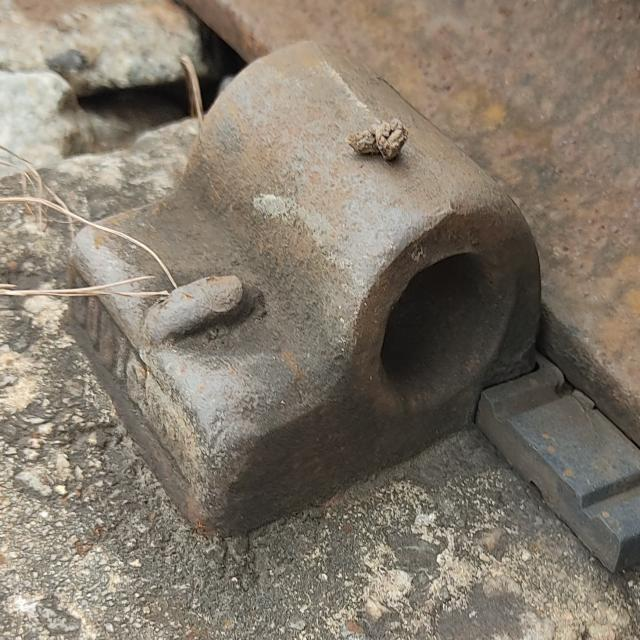track_bolt_missing: (178, 32, 544, 368)
